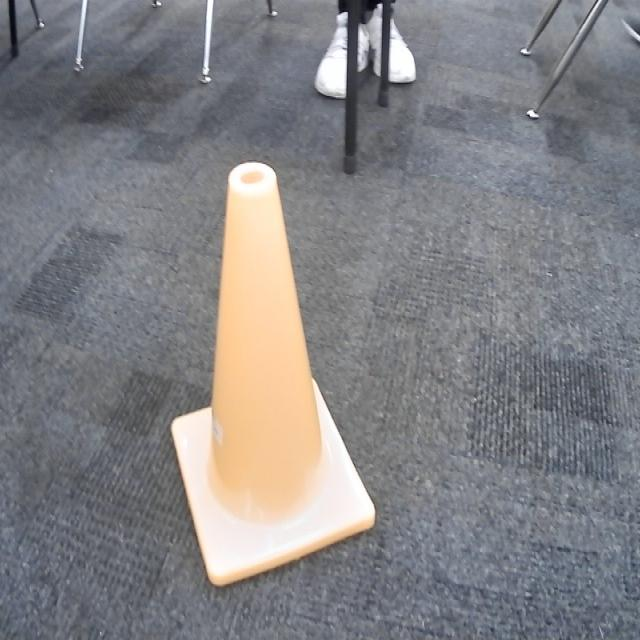cone: (170, 163, 374, 585)
